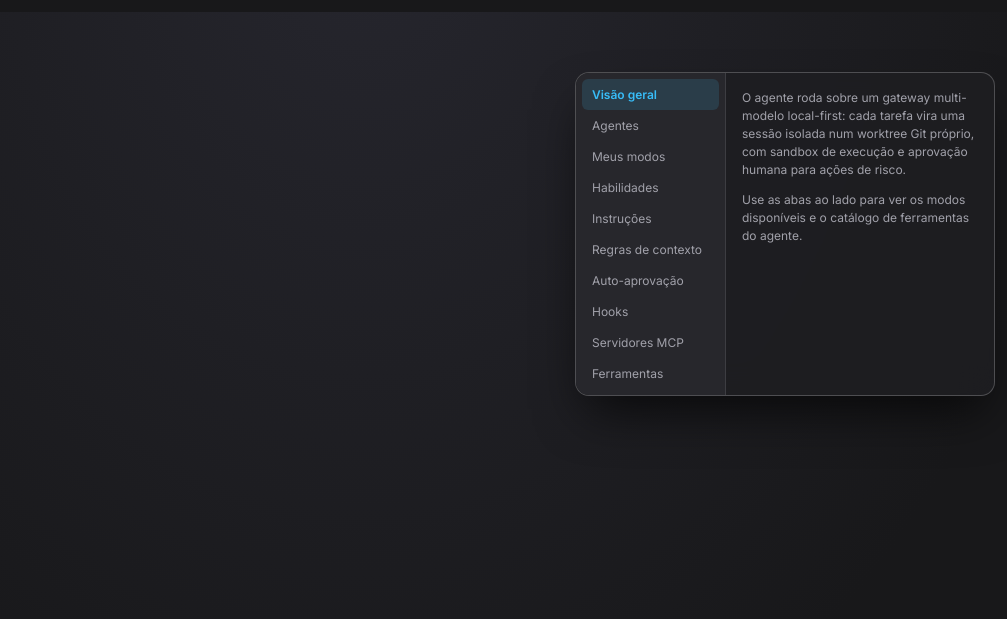
Test case: CustomizationsPopover — aba Agentes › lista a descrição de todos os modos ao abrir a aba
Click the button "Agentes".
click(650, 126)  # box [582,110,719,141]
(page scrolled)
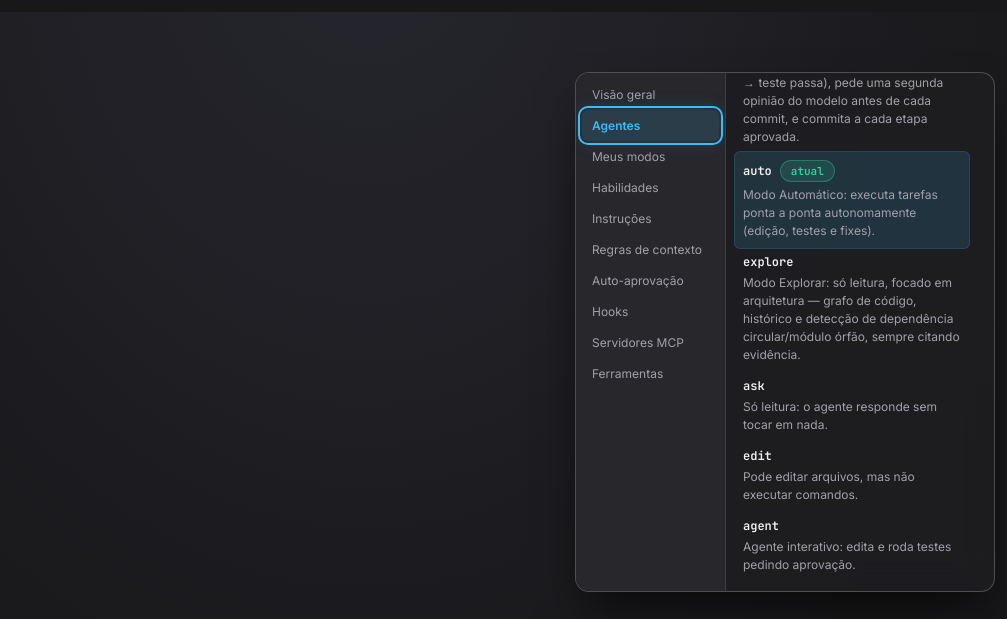
Expected: the text "Modo Automático: executa tarefas ponta a ponta autonomamente (edição, testes e fixes)." is shown, [743,187,938,238]
Expected: the text "Só leitura: o agente responde sem tocar em nada." is shown, [743,398,961,434]
Expected: the text "Pode editar arquivos, mas não executar comandos." is shown, [743,469,915,502]
